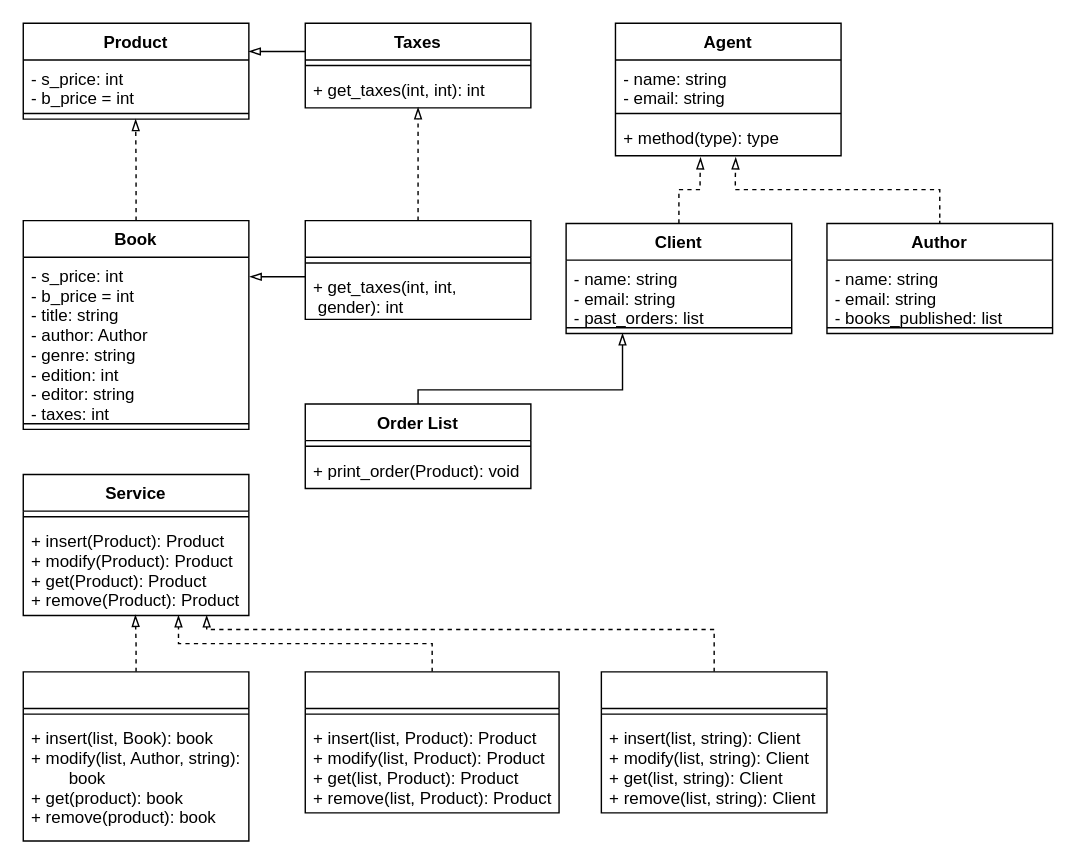
The diagram is 1076 pixels wide and 864 high, and some of its shapes have lost their labels. Here are the shapes that lost their labels. From the top down, the box of each, then its label:
(304, 219, 531, 319): Book Taxes
(22, 670, 249, 841): Book Service
(304, 670, 559, 813): Buy Order Service
(600, 670, 827, 813): Client Service
